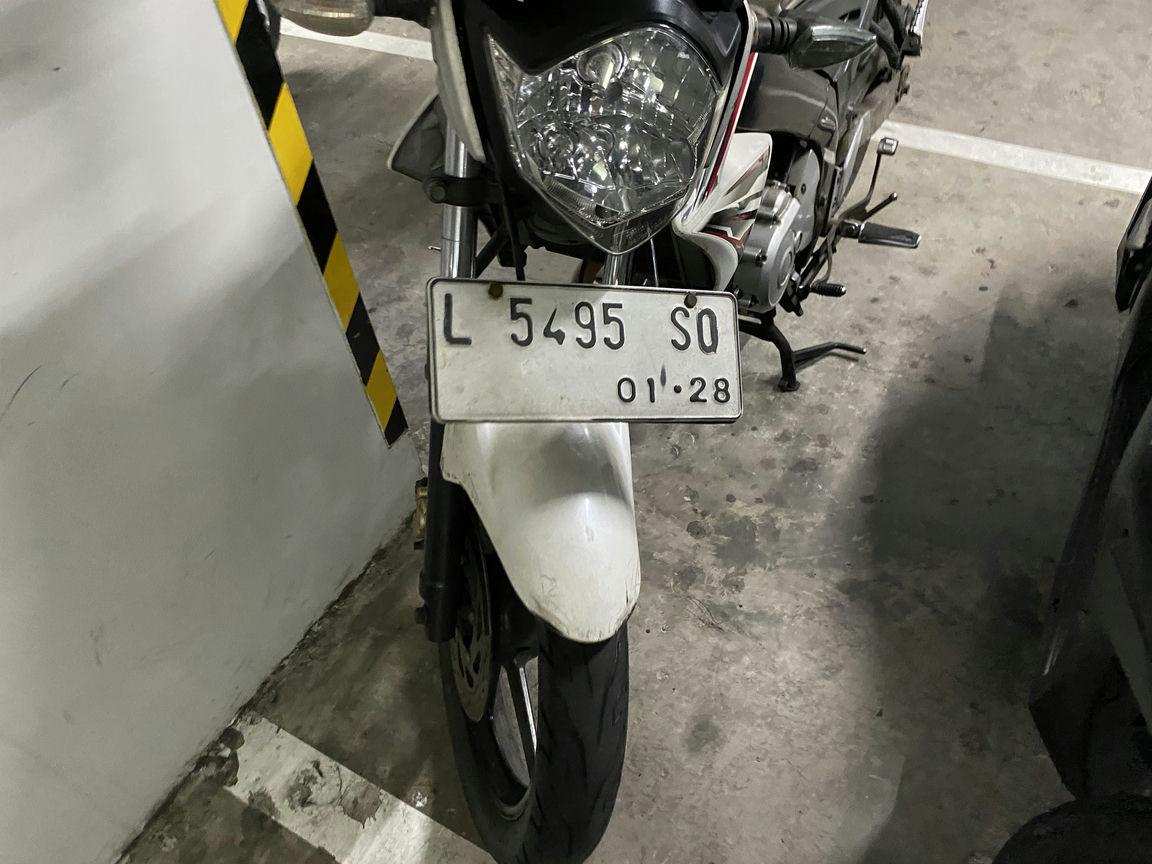plat: (430, 279, 742, 423)
